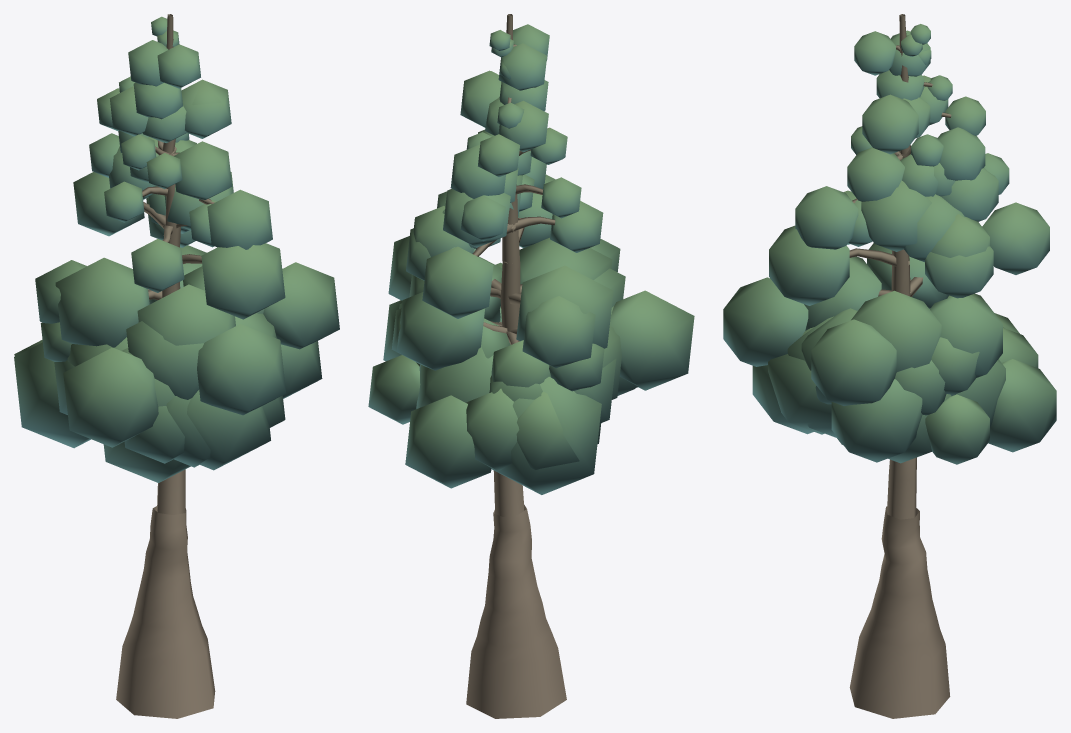
Rendered from seed_conifer_c.glb.
3 views of the same model, side by side, from view 1: azimuth 30°, elevation 25°; view 2: azimuth 150°, elevation 25°; view 3: azimuth 270°, elevation 25° (orthographic).
Parts seen in each view (by area): view 1: seed_conifer_c_LOD0; view 2: seed_conifer_c_LOD0; view 3: seed_conifer_c_LOD0.
Part boxes in pixels (x1,y1,x2,y2): seed_conifer_c_LOD0: (14,14,339,718); seed_conifer_c_LOD0: (368,14,694,718); seed_conifer_c_LOD0: (723,14,1056,718).
Size of what is drawn, in the model's own units: 4.28 by 10.02 by 4.41.
